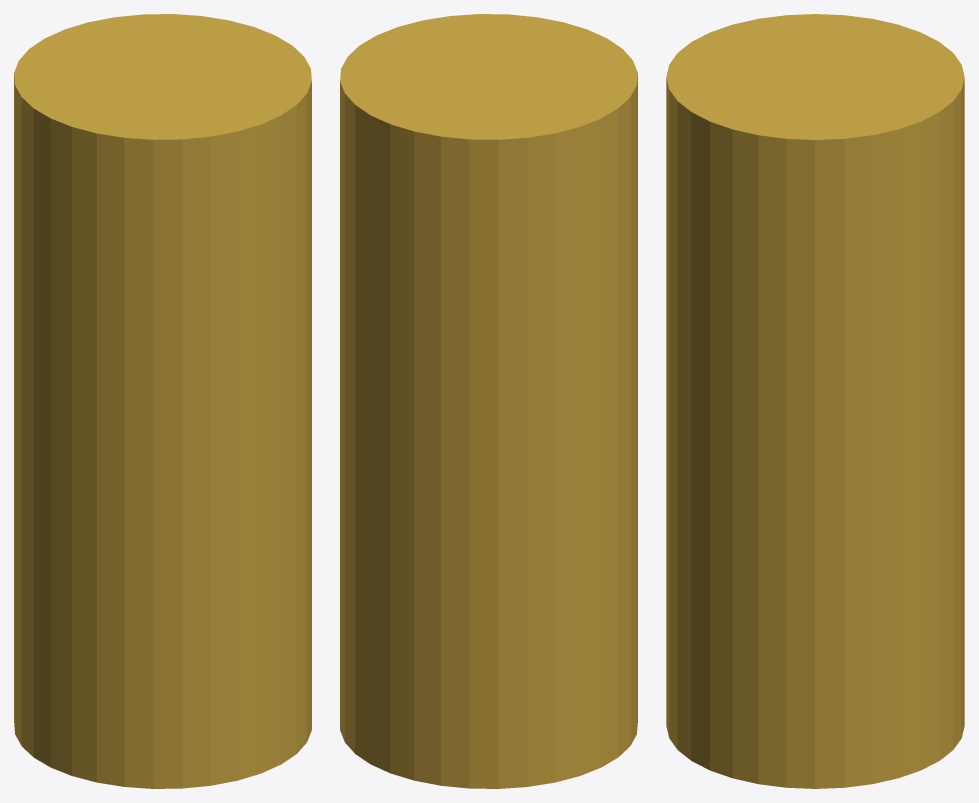
The model's file is yellow_cylinder_010_024.dae.
The picture shows the model from 3 angles, left to right: view 1: azimuth 30°, elevation 25°; view 2: azimuth 150°, elevation 25°; view 3: azimuth 270°, elevation 25°; orthographic projection.
Parts seen in each view (by area): view 1: Cylinder; view 2: Cylinder; view 3: Cylinder.
Boxes of the visible parts, box(x1,y1,x2,y2) form: Cylinder: box(14, 14, 311, 788); Cylinder: box(340, 14, 637, 788); Cylinder: box(666, 14, 964, 788).
Size of the model in its own units: 0.1 by 0.1 by 0.24.
